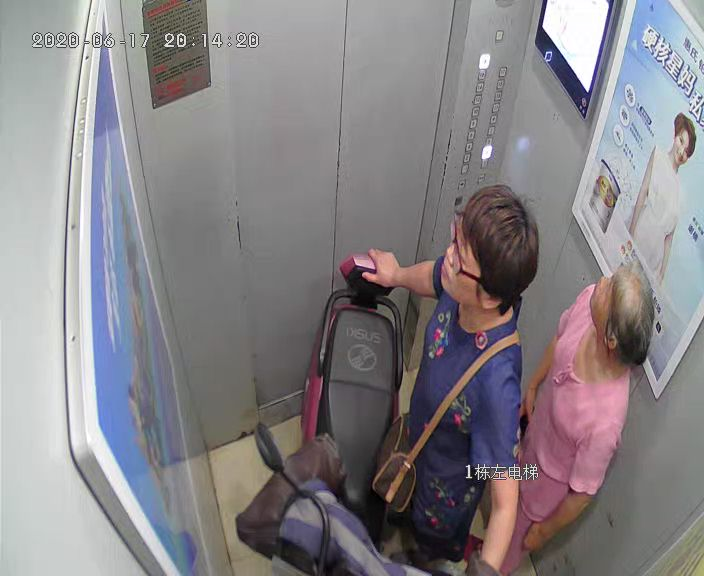Electric-bicycle: (258, 251, 444, 576)
